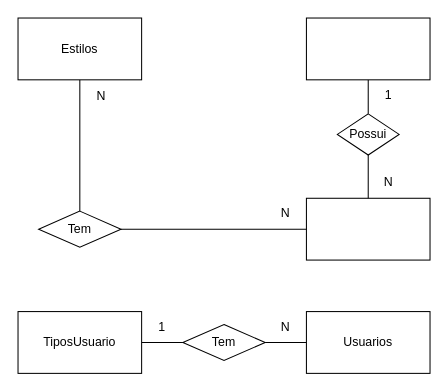
This 448x391 diagram has some shape labels left out. The shapes that lost their labels are listed below. From the top down, each one's centre as x and y in pixels, then its label:
At point 367,48: "Artistas".
At point 367,228: "Albuns".
